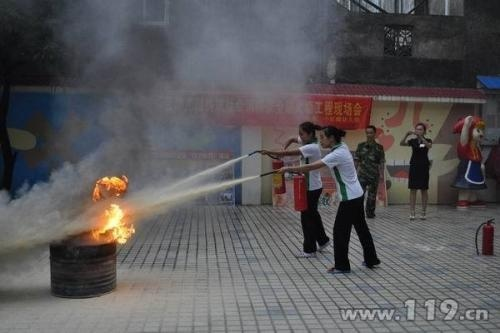fire: (88, 175, 137, 245)
